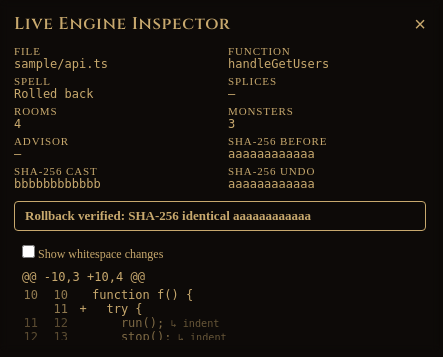
InspectorDiff whitespace changes › shows the full removed/added diff when the toggle is on
What coordinates should you click on to do the following:
click the checkbox labelled "Show whitespace changes"
I would click on:
 (28, 252)
Its box is [22, 245, 35, 258].
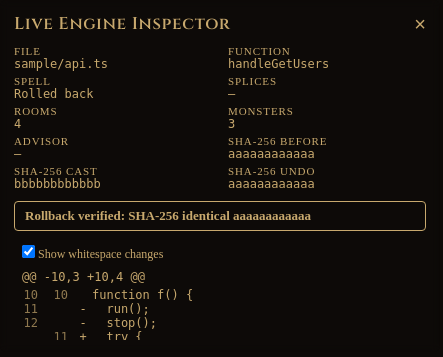
Expected: the number of rows with class "hud-diff__row--removed" is 2, [14, 302, 426, 316]; [14, 316, 426, 330]
Result: the row with class "hud-diff__row--removed" shows "run();" at [92, 302, 150, 316]
Result: the text "↳ indent" is gone
